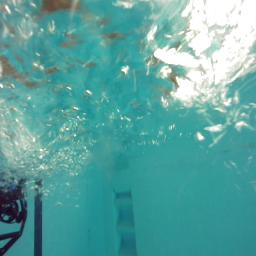Side: (0, 180, 27, 256)
